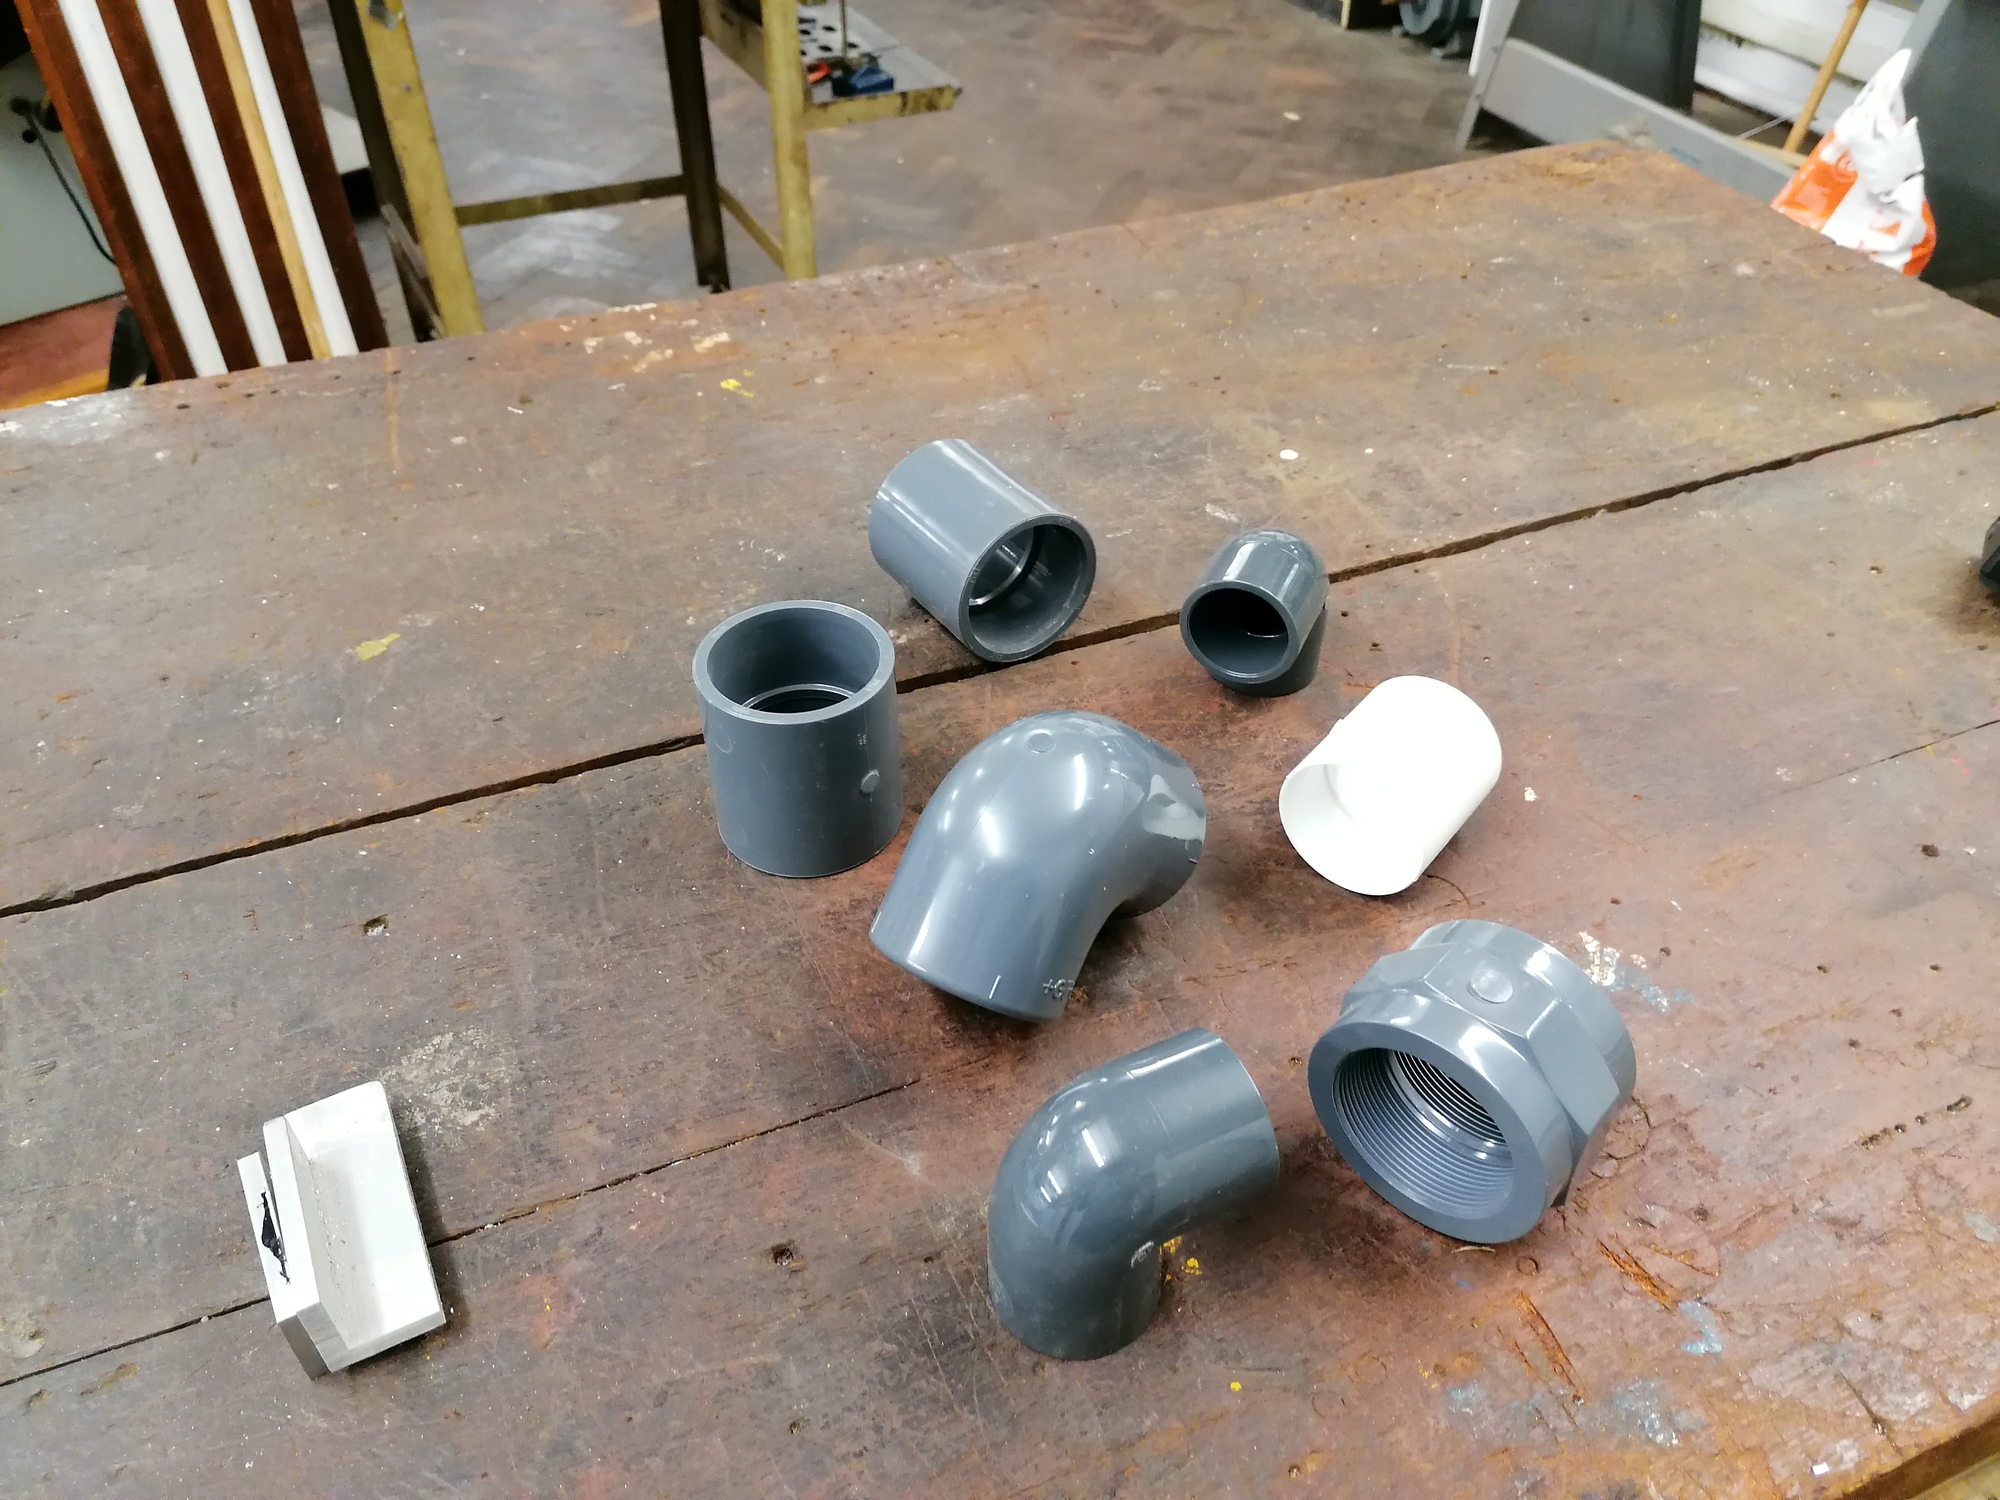nut: (1302, 915, 1636, 1253)
pipe: (861, 709, 1206, 1026), (986, 1024, 1283, 1361), (691, 600, 907, 884), (865, 435, 1101, 670), (1272, 670, 1506, 900)
